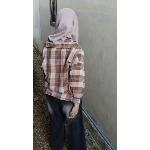Pisau: (65, 114, 79, 130)
